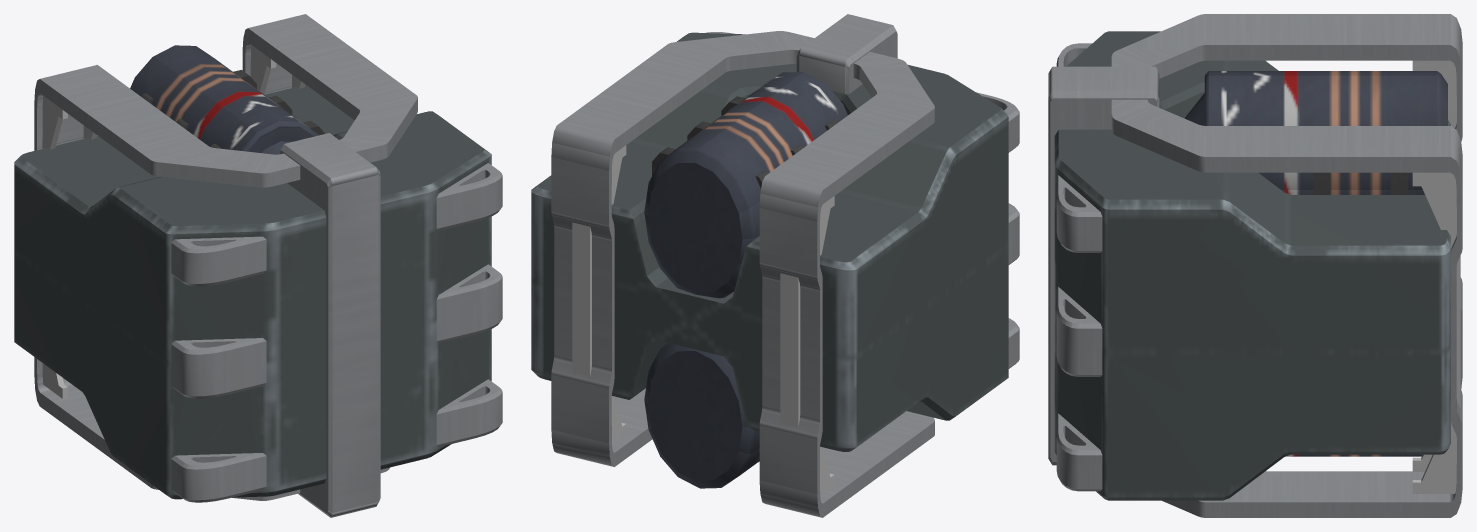
File: cargo.glb
3 renders of one model, left to right at view 1: azimuth 30°, elevation 25°; view 2: azimuth 150°, elevation 25°; view 3: azimuth 270°, elevation 25°, orthographic. The views are drawn at different scales.
Parts seen in each view (by area): view 1: CargoCrate; view 2: CargoCrate; view 3: CargoCrate.
Part boxes in pixels (x1,y1,x2,y2): CargoCrate: [14, 14, 502, 517]; CargoCrate: [531, 14, 1019, 517]; CargoCrate: [1048, 14, 1462, 517].
Bounding box in the file's own units: 1 × 1 × 1.
1 material, 1 textured.
